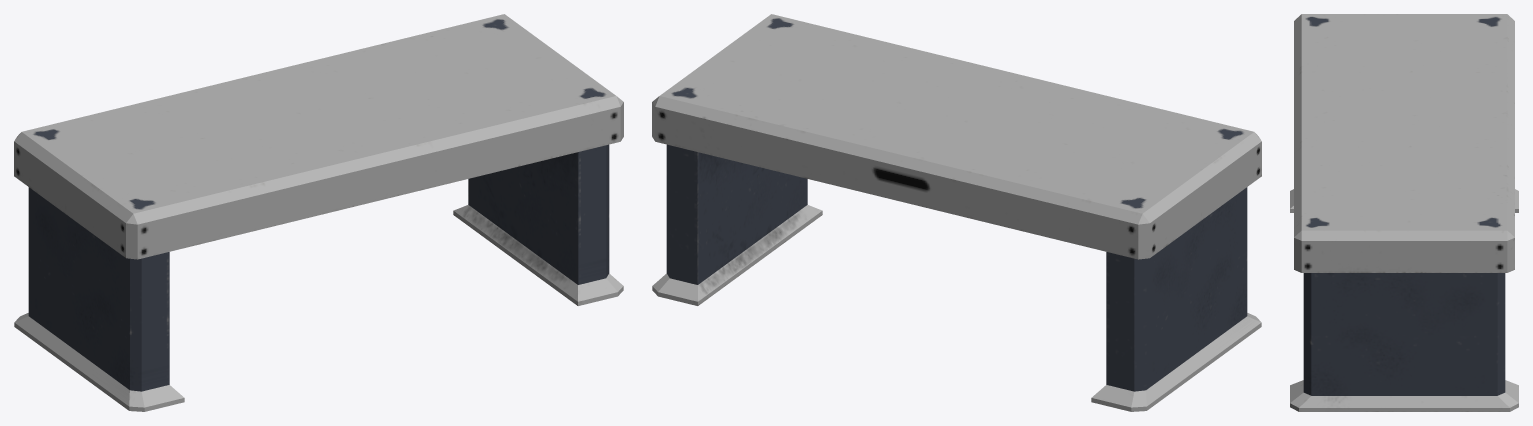
The model's file is Table.fbx.
The picture shows the model from 3 angles, left to right: view 1: azimuth 30°, elevation 25°; view 2: azimuth 150°, elevation 25°; view 3: azimuth 270°, elevation 25°; orthographic projection. The views are drawn at different scales.
Parts seen in each view (by area): view 1: sci_fi_table1; view 2: sci_fi_table1; view 3: sci_fi_table1.
Part boxes in pixels (x1=…): sci_fi_table1: x1=14, y1=14, x2=623, y2=411; sci_fi_table1: x1=652, y1=14, x2=1261, y2=411; sci_fi_table1: x1=1290, y1=14, x2=1518, y2=411.
Bounding box in the file's own units: 297 × 111 × 129.
Materials: 1 (1 with a texture image).
